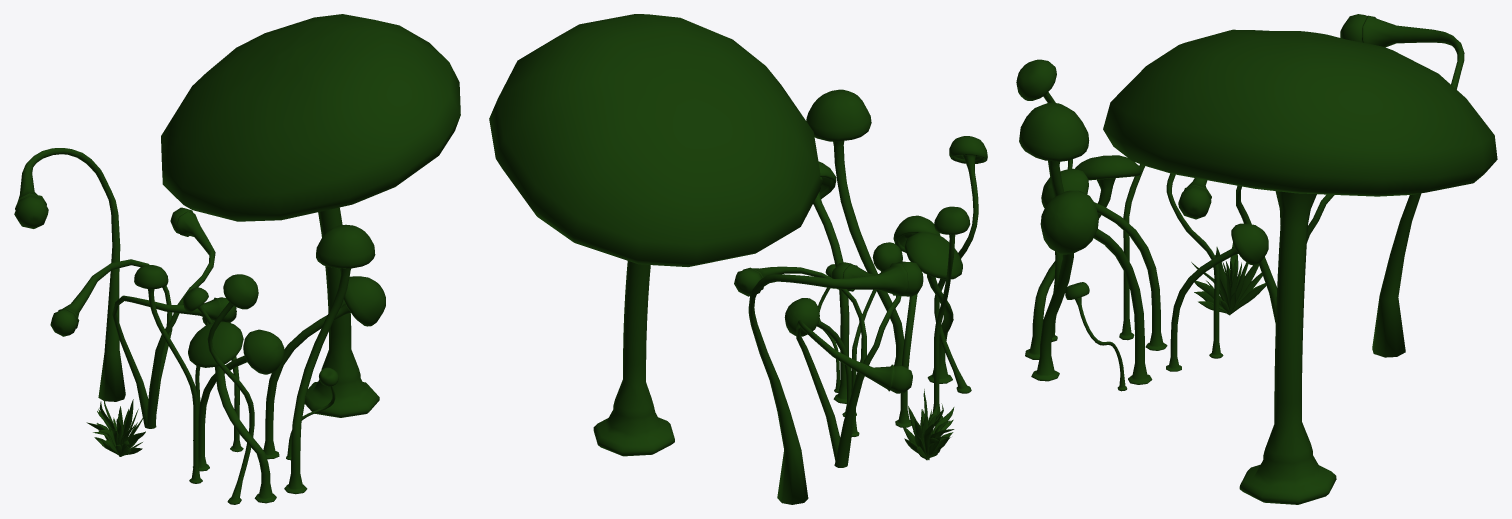
File: SciFiPlantPack2.fbx
The picture shows the model from 3 angles, left to right: view 1: azimuth 30°, elevation 25°; view 2: azimuth 150°, elevation 25°; view 3: azimuth 270°, elevation 25°; orthographic projection. The views are drawn at different scales.
Parts seen in each view (by area): view 1: Plant Seed092; view 2: Plant Seed092; view 3: Plant Seed092.
Boxes of the visible parts, x1,y1,x2,y2 form: Plant Seed092: (14, 14, 460, 504); Plant Seed092: (489, 14, 987, 504); Plant Seed092: (1016, 14, 1497, 504).
Size of the model in its own units: 682 by 584 by 602.
